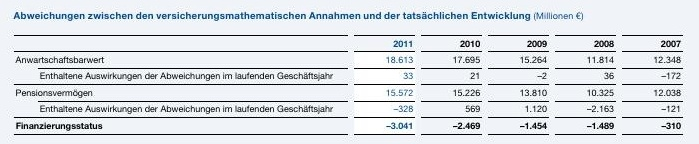table: (0, 0, 699, 144)
